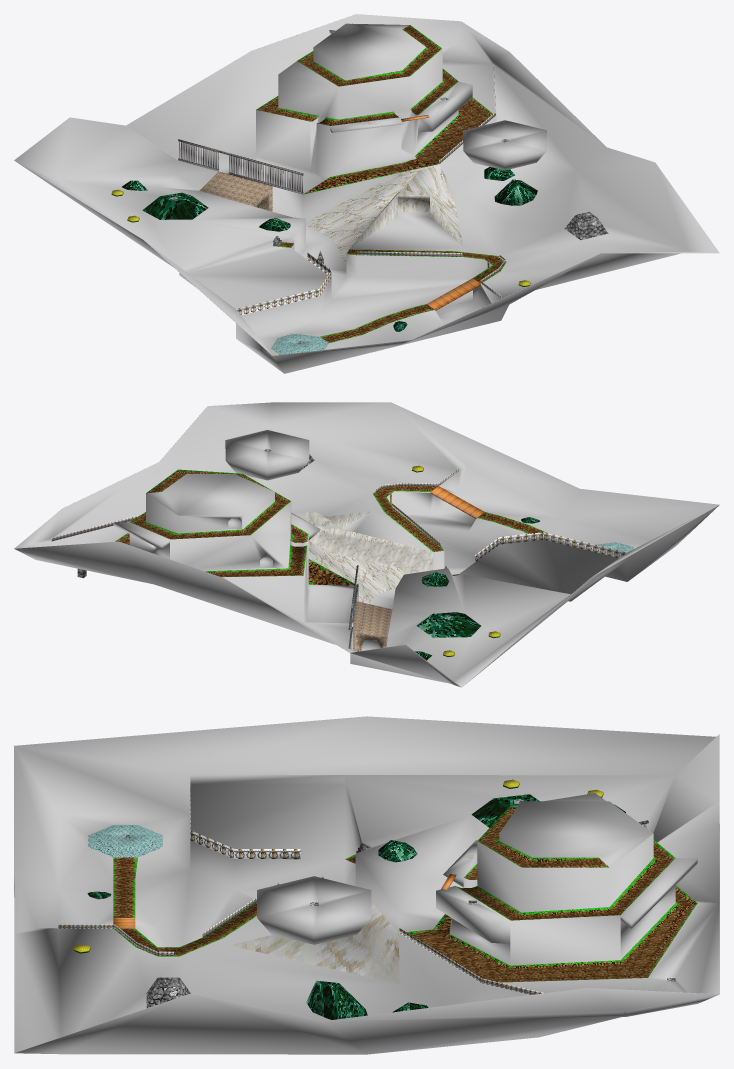
The model's file is Map.fbx.
3 renders of one model, top to bottom at view 1: azimuth 30°, elevation 25°; view 2: azimuth 150°, elevation 25°; view 3: azimuth 270°, elevation 25°, orthographic. The views are drawn at different scales.
Parts seen in each view (by area): view 1: Map; view 2: Map; view 3: Map.
Part boxes in pixels (x1,y1,x2,y2): Map: (14,14,719,373); Map: (14,402,719,687); Map: (14,716,719,1054).
Bounding box in the file's own units: 8197 × 2336 × 8200.
